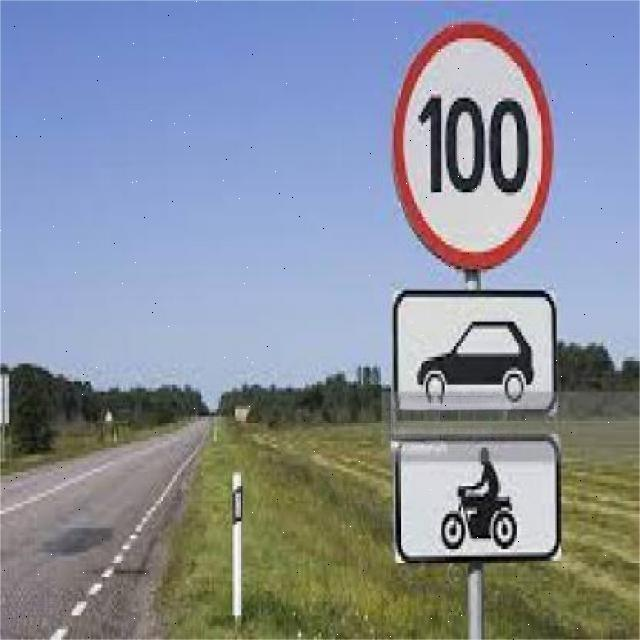speed limit 100: (393, 20, 553, 272)
